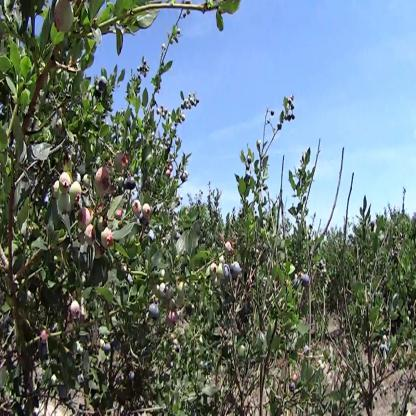intermediate: (78, 211, 96, 247), (96, 171, 111, 198), (134, 199, 152, 220), (102, 230, 113, 249), (71, 301, 81, 320)
mature: (150, 303, 162, 322), (230, 261, 242, 280), (303, 273, 311, 288)
young: (51, 172, 83, 214), (54, 1, 74, 34), (211, 263, 224, 278)
